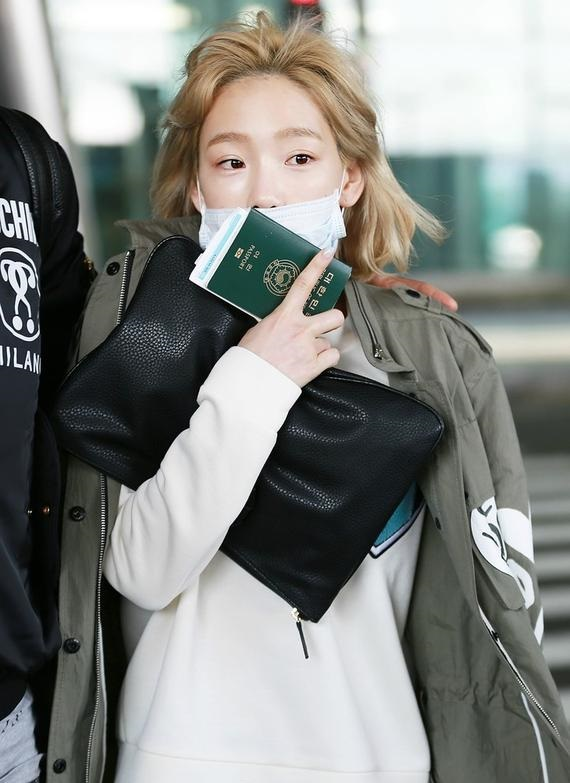face_mask: (196, 72, 339, 305)
